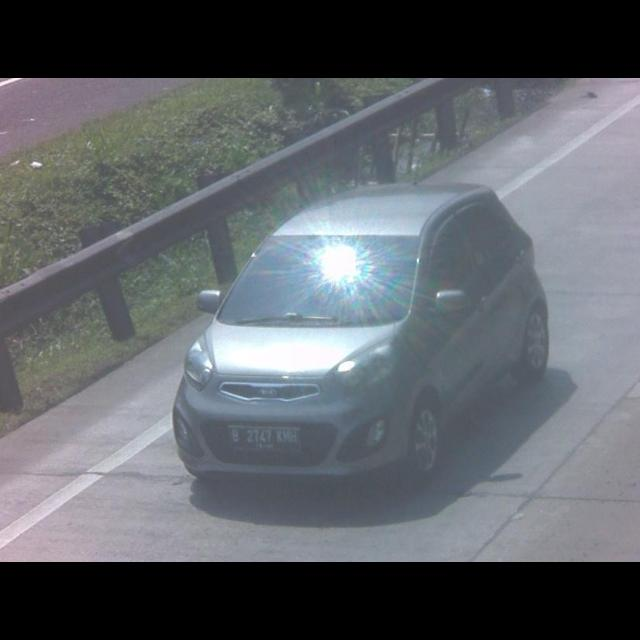plate: (224, 423, 302, 452)
